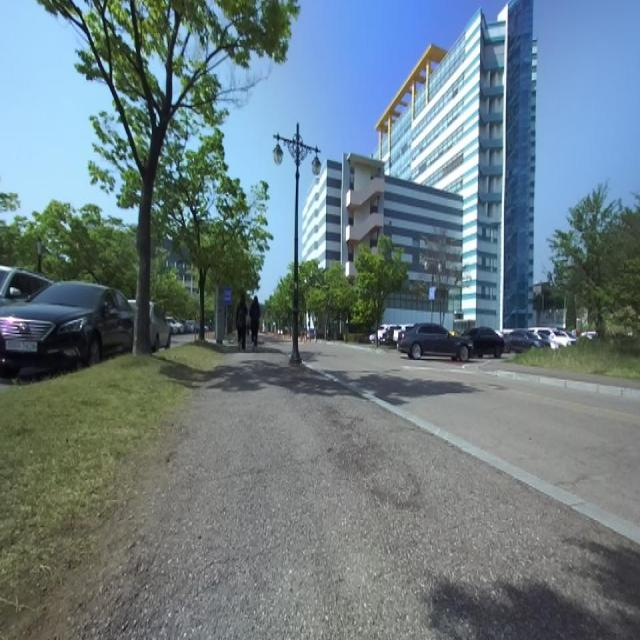sidewalk: (109, 353, 640, 640)
